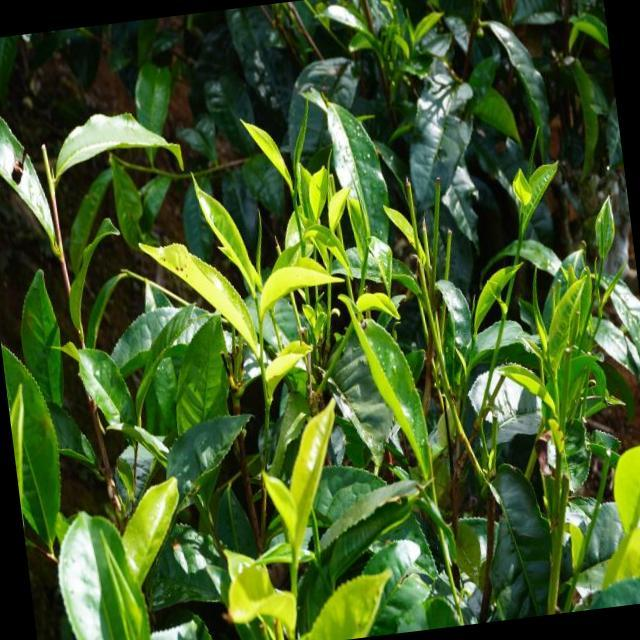Stem: (259, 321, 263, 326)
